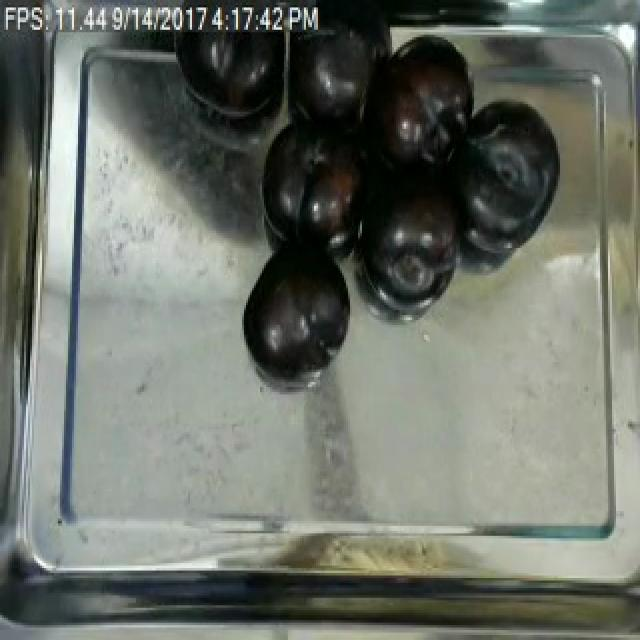Fruit: (352, 146, 480, 318), (440, 97, 566, 248), (256, 99, 376, 256), (354, 27, 482, 174), (240, 241, 356, 382)
